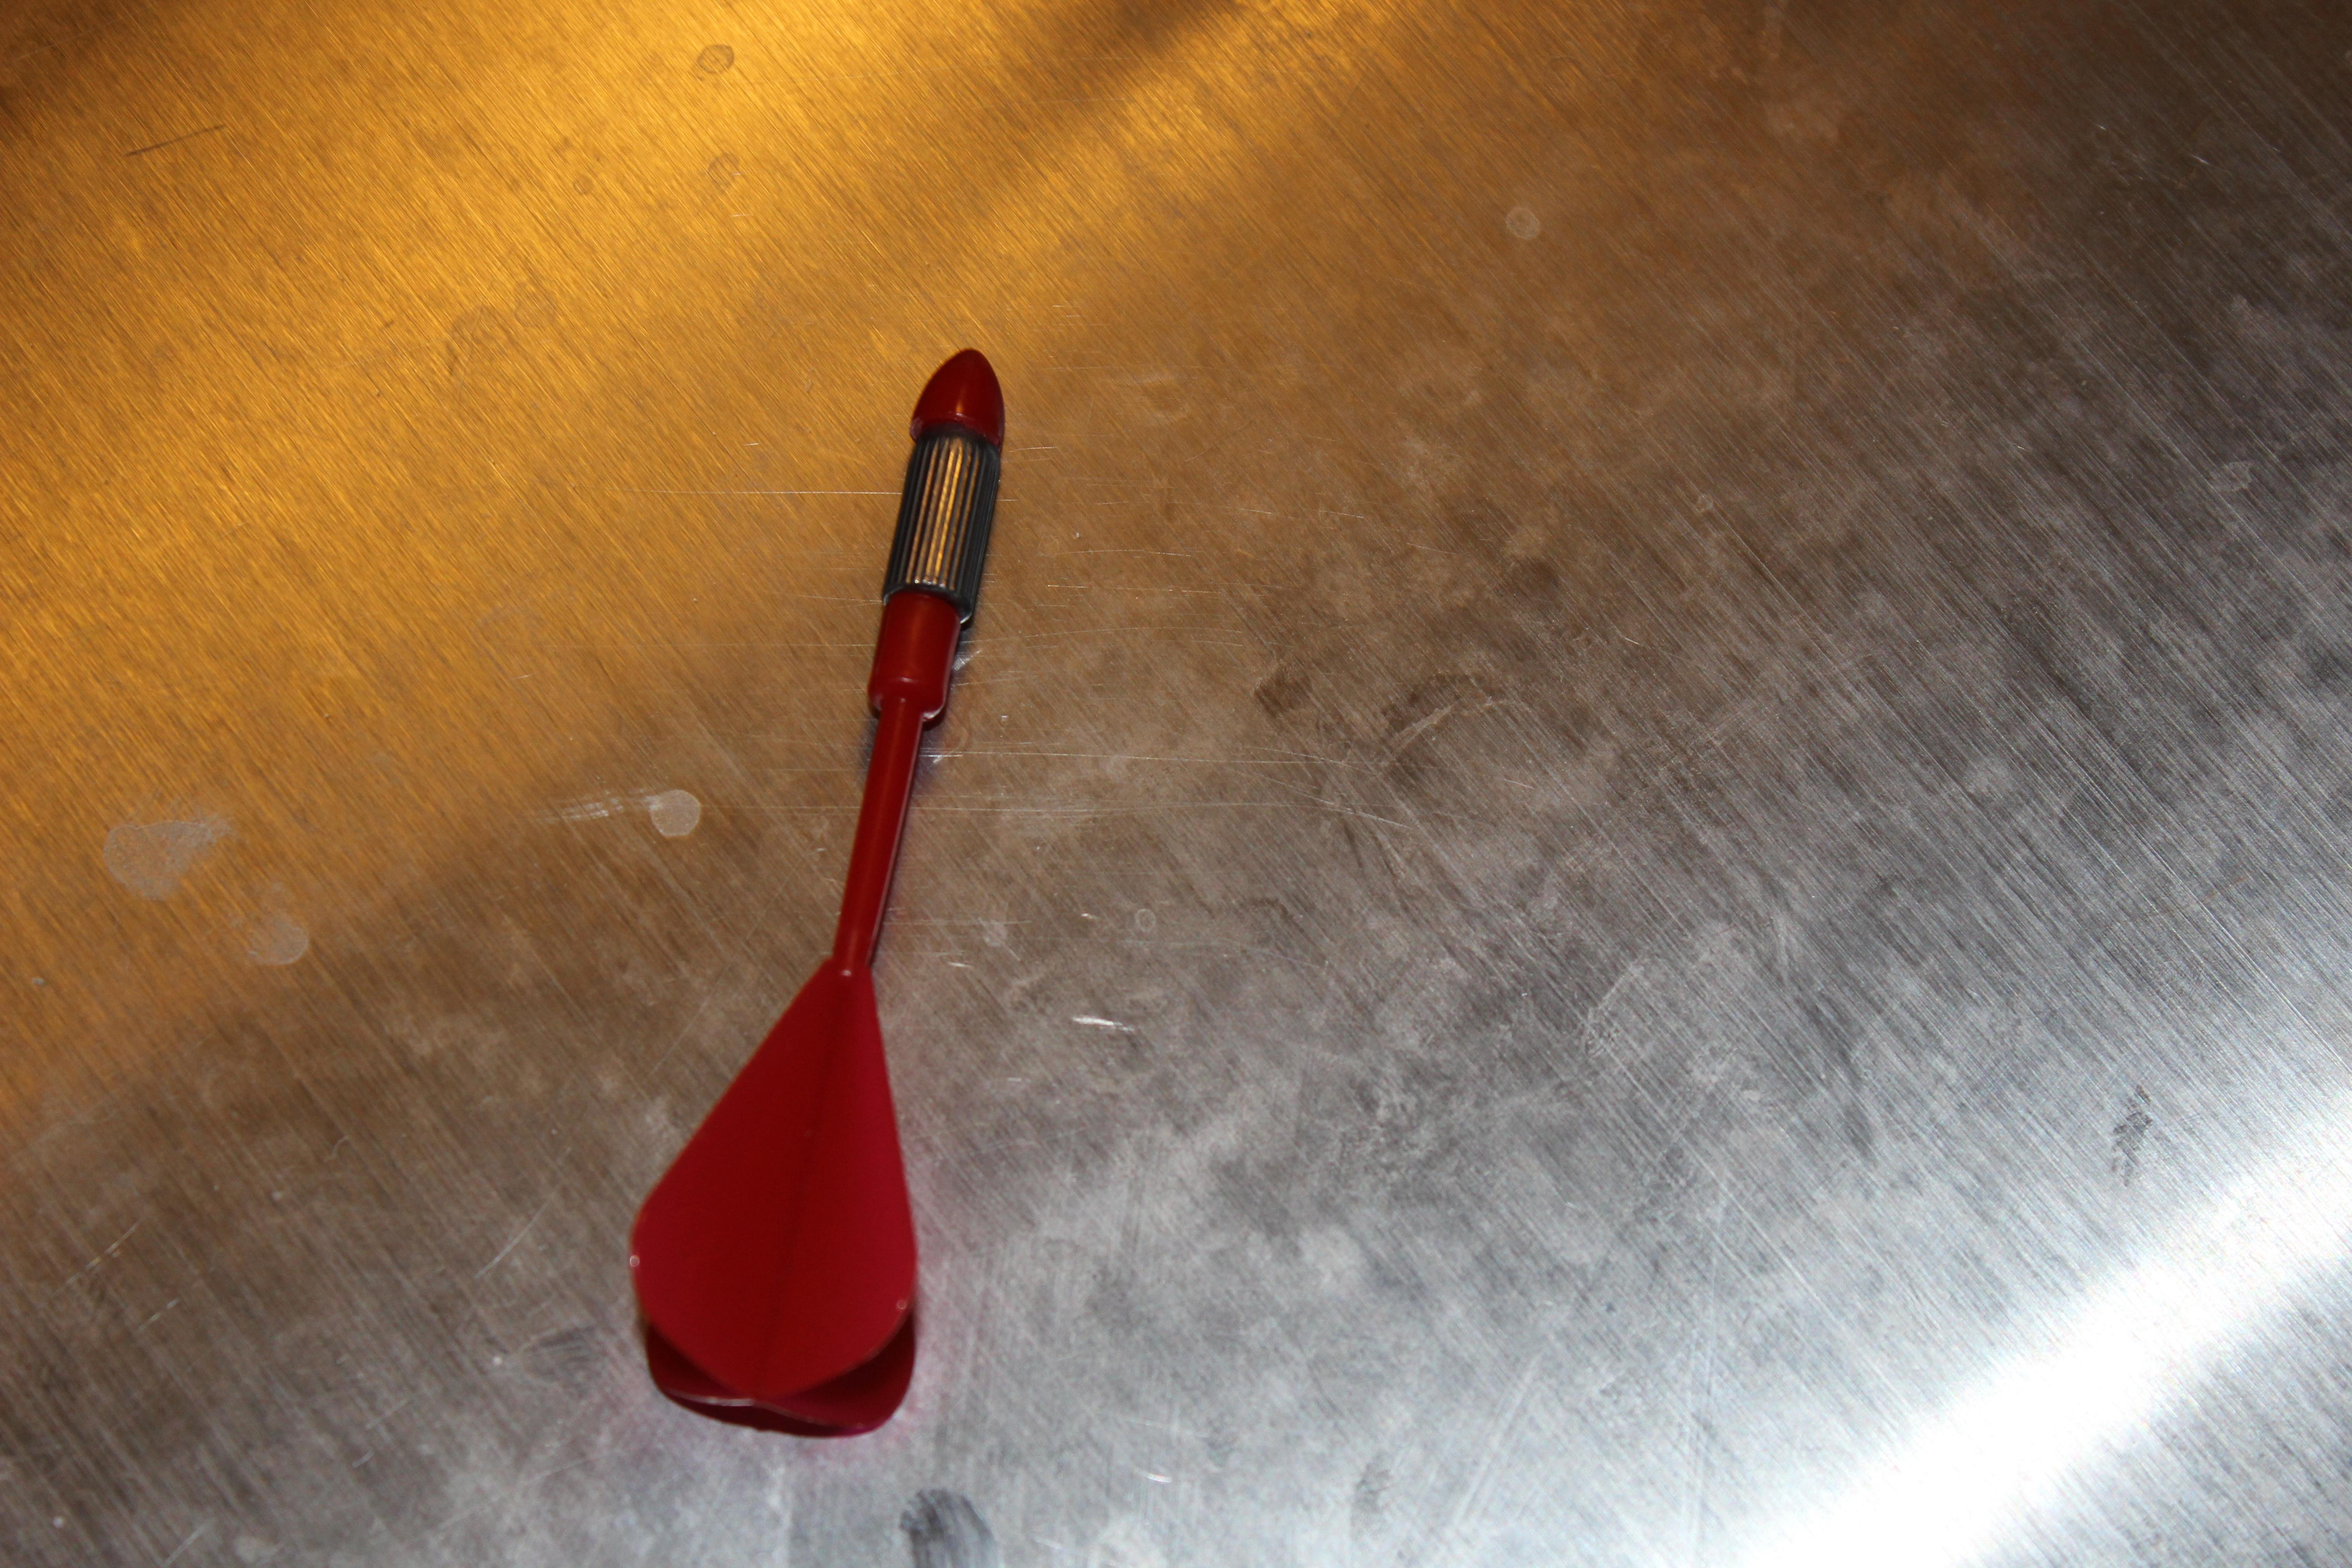redDart: (586, 313, 1043, 1472)
